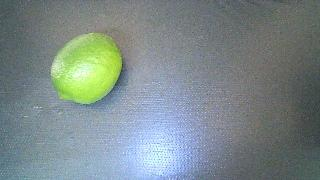EXPORTACION: (51, 33, 122, 104)
